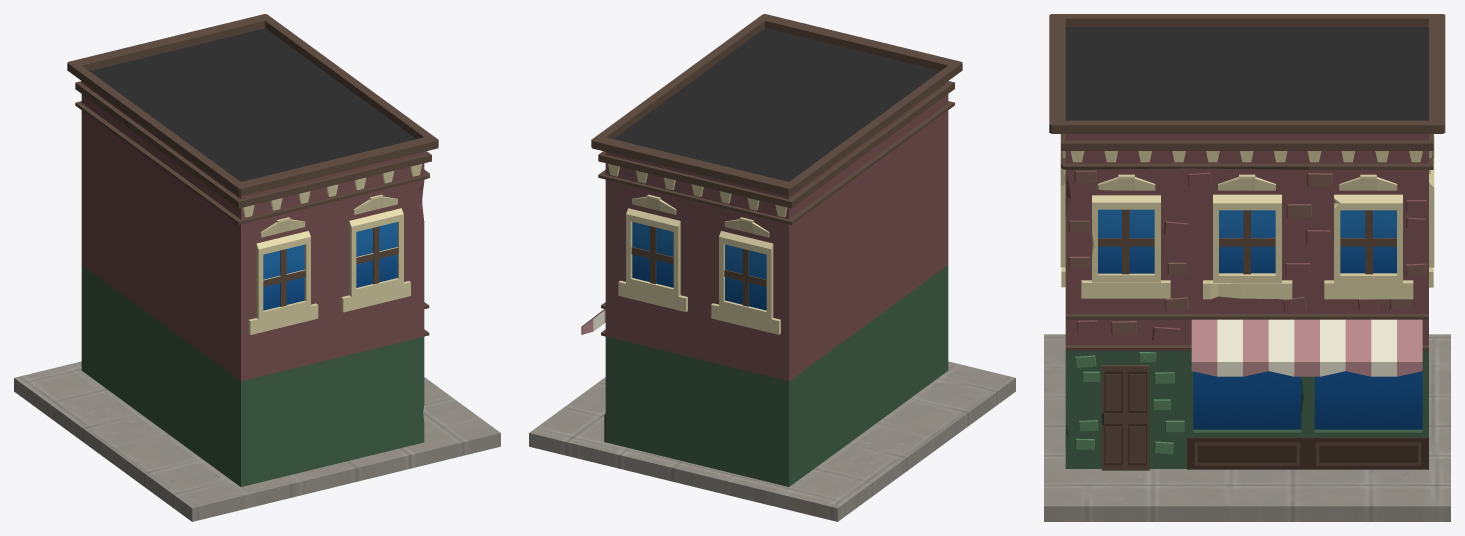
Rendered from Cafe_House_01.fbx.
3 renders of one model, left to right at view 1: azimuth 30°, elevation 25°; view 2: azimuth 150°, elevation 25°; view 3: azimuth 270°, elevation 25°, orthographic. The views are drawn at different scales.
Parts seen in each view (by area): view 1: Cafe_House_01; view 2: Cafe_House_01; view 3: Cafe_House_01.
Boxes of the visible parts, x1,y1,x2,y2 form: Cafe_House_01: [14, 14, 500, 521]; Cafe_House_01: [529, 14, 1015, 521]; Cafe_House_01: [1044, 14, 1450, 521].
Size of the model in its own units: 1200 by 1184 by 1200.
